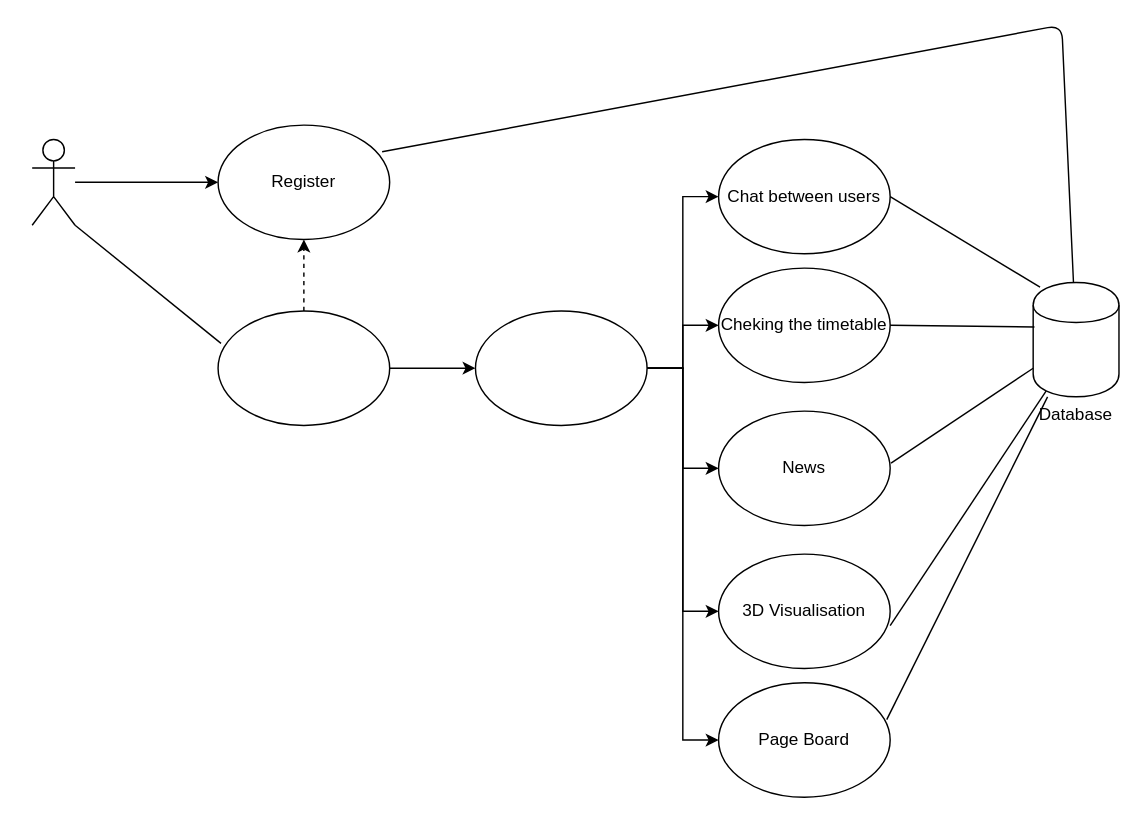
Image size: 1144x822. Some labels were removed from this diagram. The shapes that lost their labels are listed below. From the top down, each one's centre as x and y in pixels, then its label:
At point (53, 181): "Student".
At point (303, 367): "Authentification".
At point (560, 367): "Main page access".
